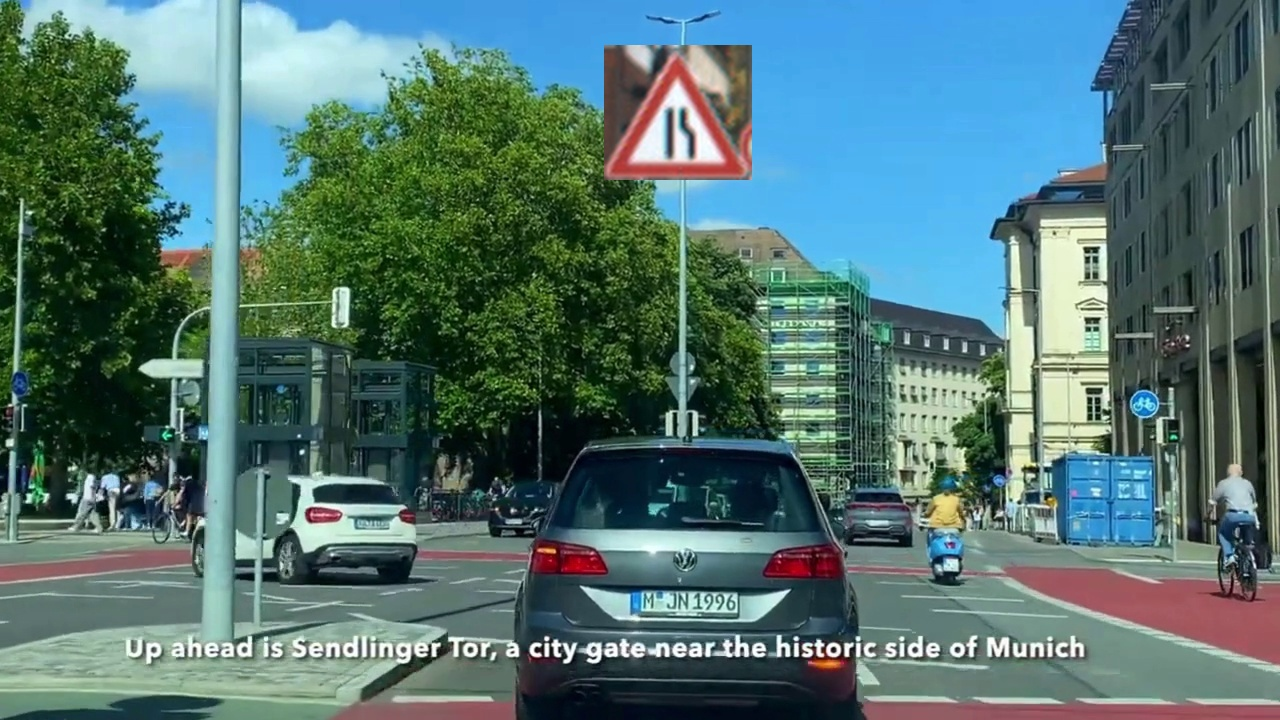Road narrows: (604, 45, 752, 180)
